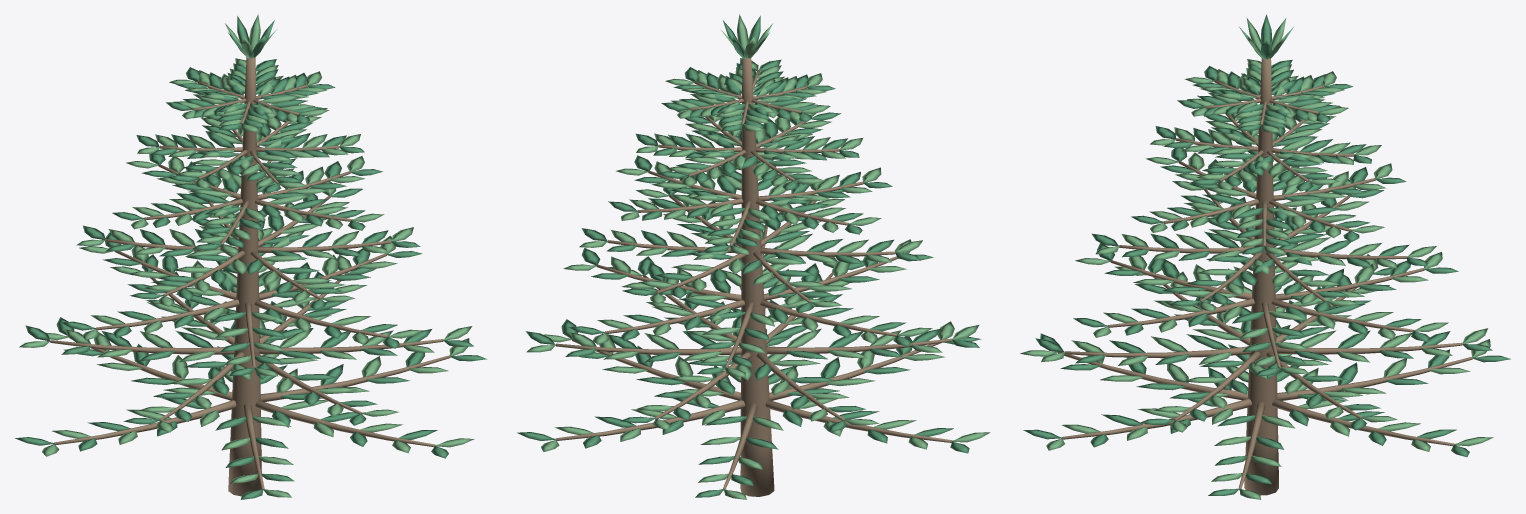
The model's file is SM_PlantPine.fbx.
3 renders of one model, left to right at view 1: azimuth 30°, elevation 25°; view 2: azimuth 150°, elevation 25°; view 3: azimuth 270°, elevation 25°, orthographic.
Visible parts, largest first — view 1: PlantPine; view 2: PlantPine; view 3: PlantPine.
Part boxes in pixels (x1,y1,x2,y2): PlantPine: (15,14,487,499); PlantPine: (517,14,990,499); PlantPine: (1020,14,1510,499).
Bounding box in the file's own units: 2.52 × 2.5 × 2.39.
